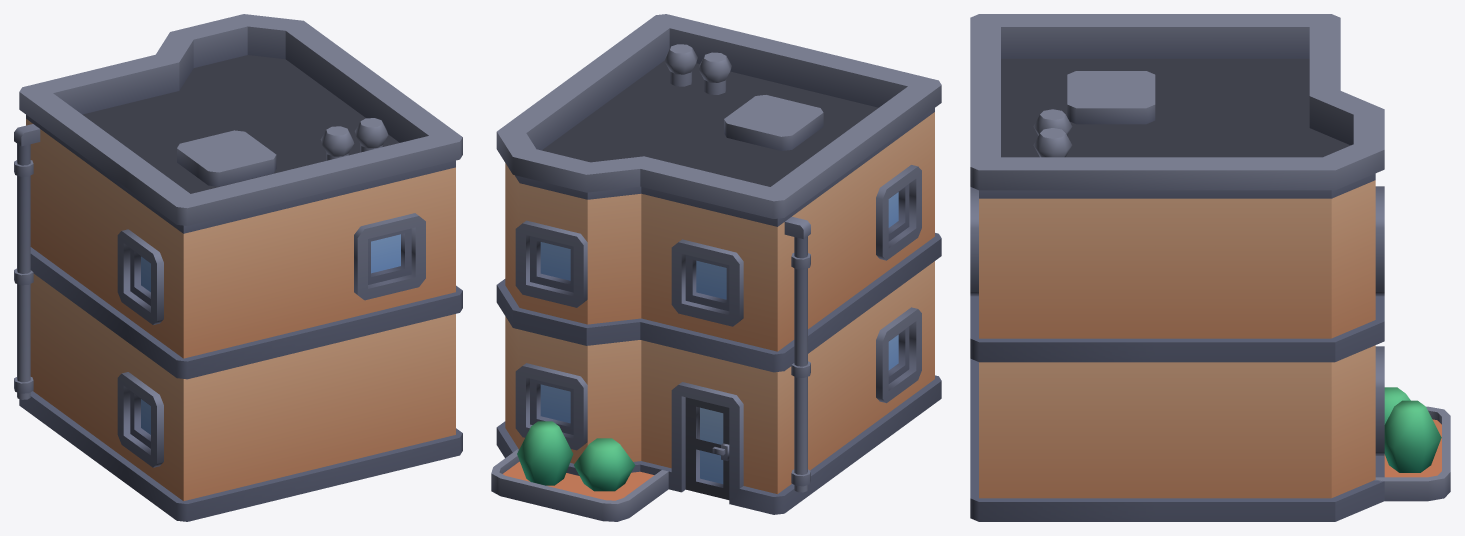
Rendered from building-c.glb.
The picture shows the model from 3 angles, left to right: view 1: azimuth 30°, elevation 25°; view 2: azimuth 150°, elevation 25°; view 3: azimuth 270°, elevation 25°; orthographic projection. The views are drawn at different scales.
Parts seen in each view (by area): view 1: building-c; view 2: building-c; view 3: building-c.
Boxes of the visible parts, x1=… form: building-c: x1=14, y1=14, x2=462, y2=521; building-c: x1=491, y1=14, x2=941, y2=521; building-c: x1=970, y1=14, x2=1450, y2=521.
Size of the model in its own units: 0.8836 by 0.893 by 1.09.
1 material, 1 textured.
